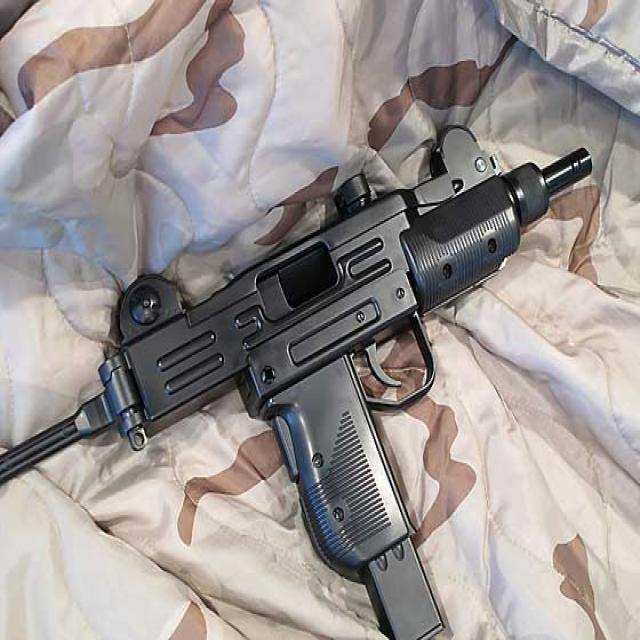SMG: (0, 128, 594, 640)
